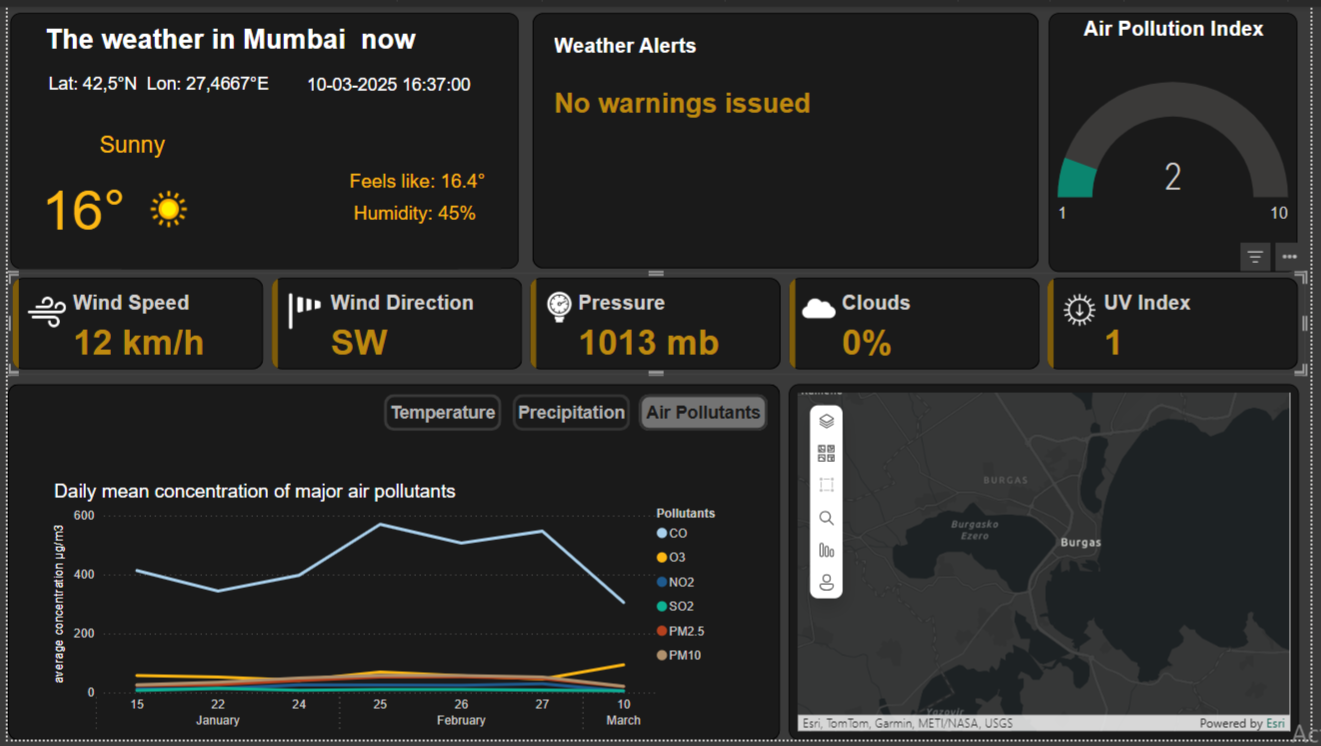

This screenshot's page, from the dashboard's own definition file:
{"tool":"powerbi","page":{"name":"Page 1","canvas":[1280,720],"ordinal":0},"visuals":[{"type":"textbox","box":[3,5.9,499,251.3],"z":0},{"type":"textbox","box":[32.2,12,434.1,47.6],"z":0,"group":"g4"},{"type":"tableEx","fields":{"Values":["weather-table.latest_cond_icon"]},"box":[111.8,138.3,330,119],"z":0,"group":"g1"},{"type":"actionButton","title":"temperature","box":[368.8,380.6,115.3,36.1],"z":0,"group":"g2"},{"type":"card","fields":{"Values":["Max(weather-table.localtime)"]},"box":[263.7,62.1,220.8,31.5],"z":1000,"group":"g4"},{"type":"card","fields":{"Values":["weather-table.latest_temp_label"]},"box":[26.4,160,97.6,70],"z":1000,"group":"g1"},{"type":"shape","box":[0,370.3,758.2,349.7],"z":1000},{"type":"actionButton","title":"precipitation","box":[495.5,380.6,115.3,36.1],"z":1000,"group":"g2"},{"type":"card","fields":{"Values":["weather-table.LatLonLabel"]},"box":[33.3,55.7,230.3,41.2],"z":2000,"group":"g4"},{"type":"actionButton","title":"pollutants","box":[620.1,380,126.7,36.1],"z":2000,"group":"g3"},{"type":"group","id":"g1","title":"Group 1","box":[26.4,138.3,415.4,119],"z":3000,"group":"g4"},{"type":"group","id":"g2","title":"Buttons_Inactive","box":[368.8,380.6,379.1,36.7],"z":3000},{"type":"card","fields":{"Values":["weather-table.latest_condition_text"]},"box":[11.2,104,222.6,63.1],"z":4000,"group":"g4"},{"type":"lineChart","title":"Daily mean concentration of major air pollutants","fields":{"Category":["weather-table.localtime.Variation.Date Hierarchy.Month","weather-table.localtime.Variation.Date Hierarchy.Day"],"Y":["Avg(weather-table.air_quality.co)","Avg(weather-table.air_quality.o3)","Avg(weather-table.air_quality.no2)","Avg(weather-table.air_quality.so2)","Avg(weather-table.air_quality.pm2_5)","Avg(weather-table.air_quality.pm10)"]},"box":[40.3,464.9,676.2,255.6],"z":4000},{"type":"card","fields":{"Values":["weather-table.feels_like_label"]},"box":[324.7,158.6,156.6,27],"z":5000,"group":"g4"},{"type":"card","fields":{"Values":["weather-table.humidity_label"]},"box":[324.7,185.6,151.9,36.9],"z":6000,"group":"g4"},{"type":"group","id":"g3","title":"Buttons_active","box":[368,380,379,37.7],"z":6000},{"type":"cardVisual","fields":{"Data":["weather-table.latest_wind_kph","weather-table.latest_wind_dir","weather-table.latest_pressure","weather-table.latest_clouds","weather-table.latest_uv"]},"box":[0,261.6,1274.4,100.2],"z":7000},{"type":"group","id":"g4","title":"Group 2","box":[11.2,12,473.3,245.3],"z":8000},{"type":"cardVisual","fields":{"Data":["weather-table.latest_alert_headline"]},"box":[510,1,507.8,261.4],"z":9000},{"type":"gauge","title":"Air Pollution Index","fields":{"Y":["weather-table.latest_airquality_gbindex"]},"box":[1022,5.9,244,254.2],"z":10000},{"type":"esriVisual","fields":{"Location":["weather-table.name"],"Latitude":["weather-table.lat"]},"box":[767,370.3,501,349.7],"z":11000}]}

Visuals, with their boxes in screenshot pixels (x1, y1, x2, y2), scaled from the page's 1280x720 canvas onto the 1321x746 screenshot:
textbox: 3, 6, 518, 266
textbox: 33, 12, 481, 62
tableEx - weather-table.latest_cond_icon: 115, 143, 456, 267
"temperature" actionButton: 381, 394, 500, 432
card - Max(weather-table.localtime): 272, 64, 500, 97
card - weather-table.latest_temp_label: 27, 166, 128, 238
shape: 0, 384, 782, 745
"precipitation" actionButton: 511, 394, 630, 432
card - weather-table.LatLonLabel: 34, 58, 272, 100
"pollutants" actionButton: 640, 394, 771, 431
"Group 1" group: 27, 143, 456, 267
"Buttons_Inactive" group: 381, 394, 772, 432
card - weather-table.latest_condition_text: 12, 108, 241, 173
"Daily mean concentration of major air pollutants" lineChart: 42, 482, 739, 745
card - weather-table.feels_like_label: 335, 164, 497, 192
card - weather-table.humidity_label: 335, 192, 492, 231
"Buttons_active" group: 380, 394, 771, 433
cardVisual - weather-table.latest_wind_kph x weather-table.latest_wind_dir: 0, 271, 1315, 375
"Group 2" group: 12, 12, 500, 267
cardVisual - weather-table.latest_alert_headline: 526, 1, 1050, 272
"Air Pollution Index" gauge: 1055, 6, 1307, 269
esriVisual - weather-table.name x weather-table.lat: 792, 384, 1309, 745
